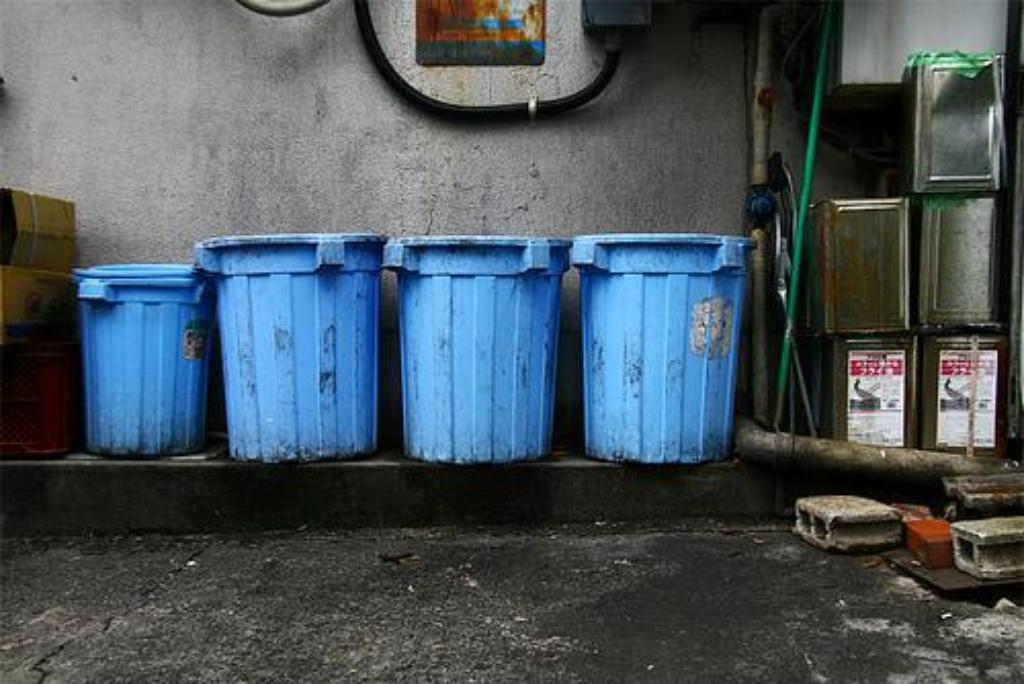dustbin: (193, 219, 404, 461), (571, 227, 762, 470), (384, 228, 578, 462), (65, 252, 224, 466)
